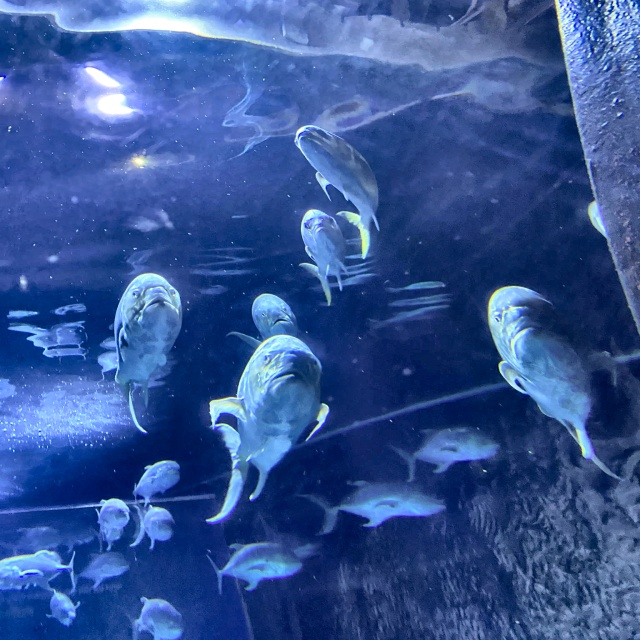fish: (206, 335, 328, 522), (488, 285, 601, 458), (294, 125, 381, 258), (113, 273, 180, 432), (296, 482, 444, 534), (393, 426, 496, 481), (299, 210, 347, 306), (205, 544, 299, 591), (230, 294, 298, 351), (0, 551, 78, 594), (126, 596, 184, 639), (132, 503, 177, 551), (70, 552, 128, 587), (134, 461, 180, 505), (95, 499, 130, 549), (45, 589, 80, 628)
